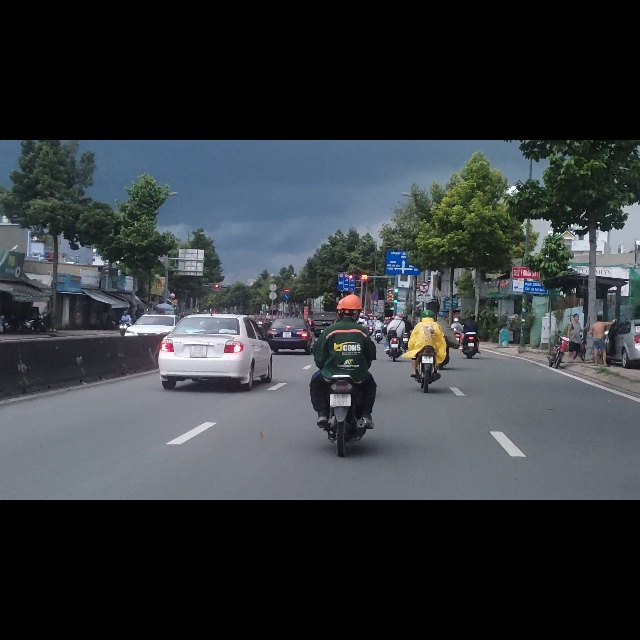bien_cam: (338, 245, 355, 268), (419, 253, 430, 270), (284, 263, 290, 273), (284, 274, 289, 284)
